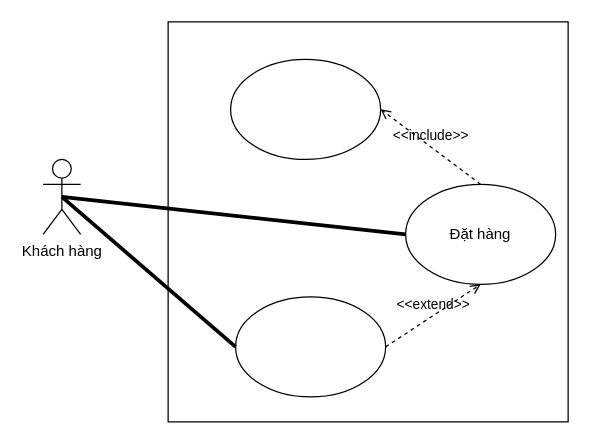
This 590x444 diagram has some shape labels left out. Here are the shapes that lost their labels. From the top down, the centre of each, then its label:
the point at 305,108: Kiểm tra giỏ hàng
the point at 310,346: Áp dụng mã giảm giá
